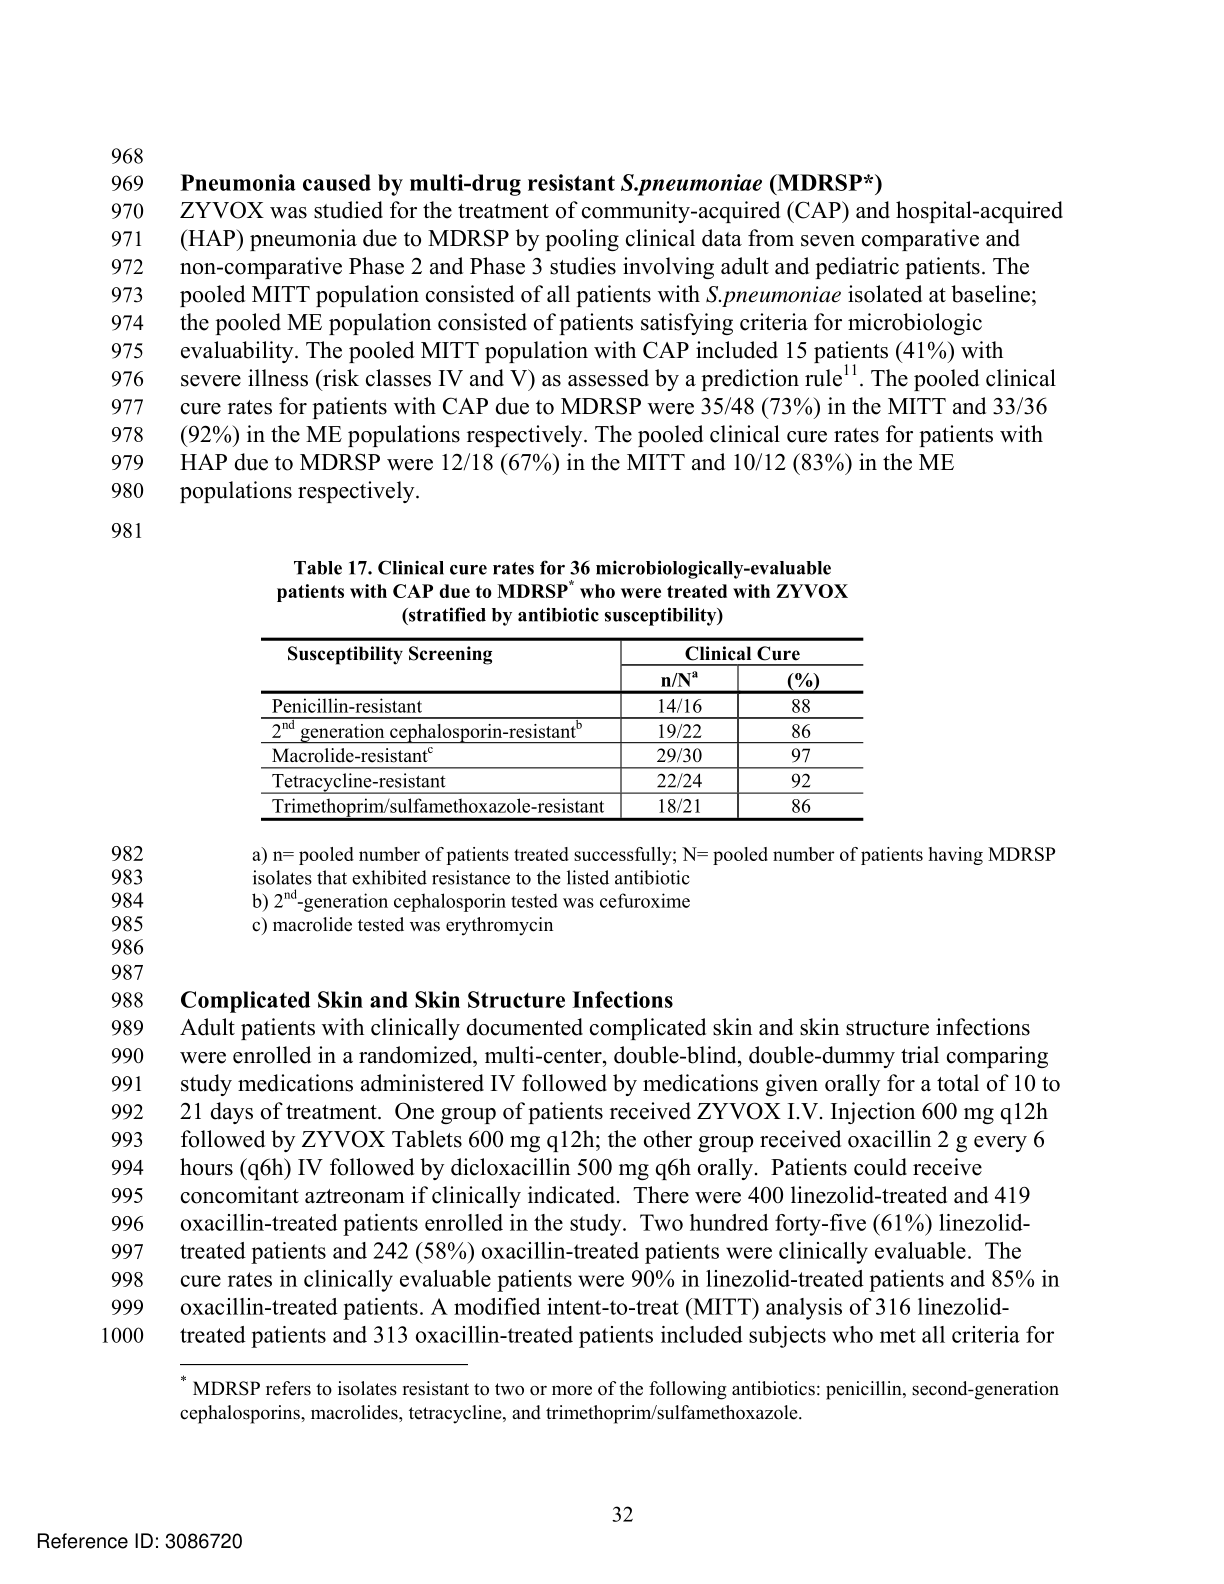partial_lined_merged_cells: (258, 636, 865, 822)
